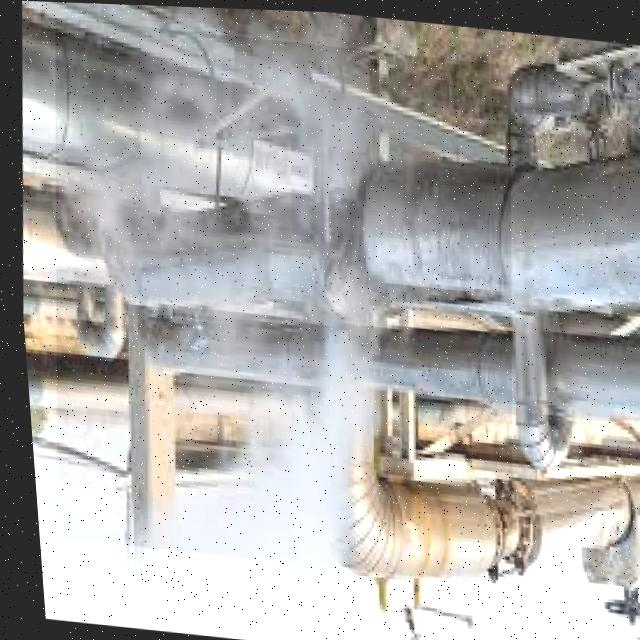corrosion: (125, 127, 440, 427)
